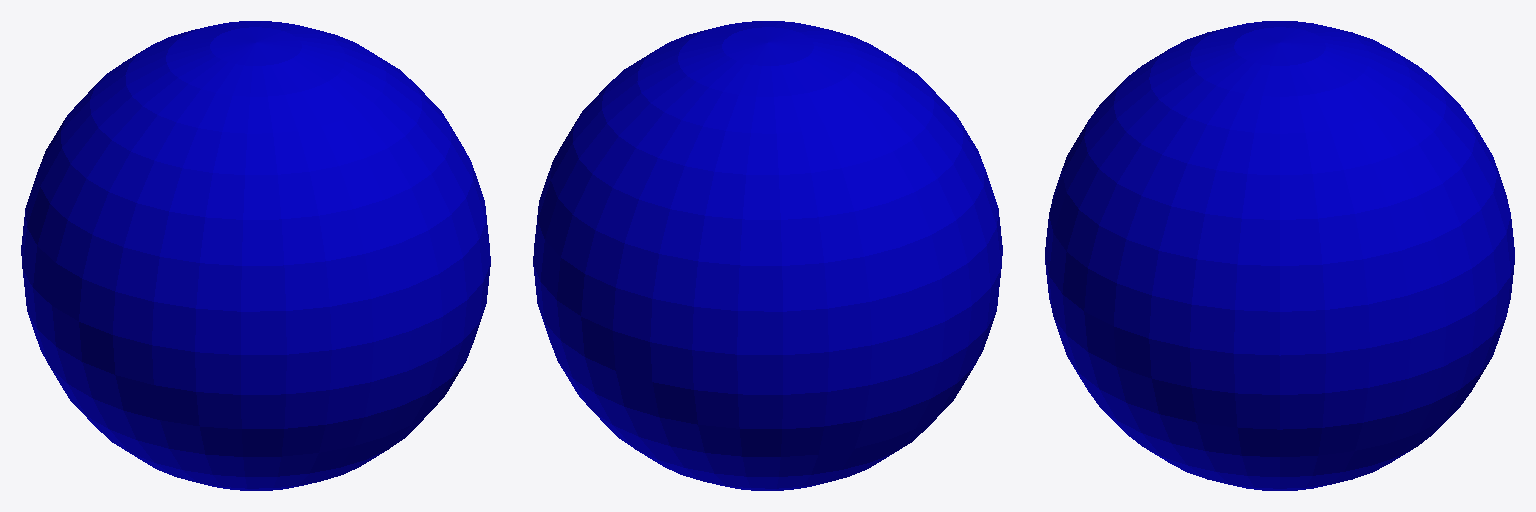
Rendered from thechosenone.obj.
The picture shows the model from 3 angles: view 1: azimuth 30°, elevation 25°; view 2: azimuth 150°, elevation 25°; view 3: azimuth 270°, elevation 25°; orthographic projection.
Visible parts, largest first — view 1: Sphere; view 2: Sphere; view 3: Sphere.
Boxes of the visible parts, x1=… form: Sphere: x1=21, y1=21, x2=490, y2=490; Sphere: x1=533, y1=21, x2=1002, y2=490; Sphere: x1=1045, y1=21, x2=1514, y2=490.
Size of the model in its own units: 2 by 2 by 2.